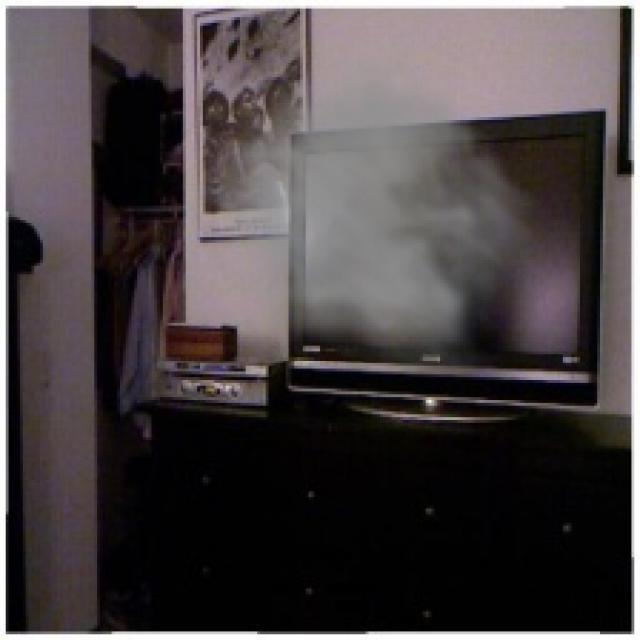Smoke: (192, 14, 552, 369)
